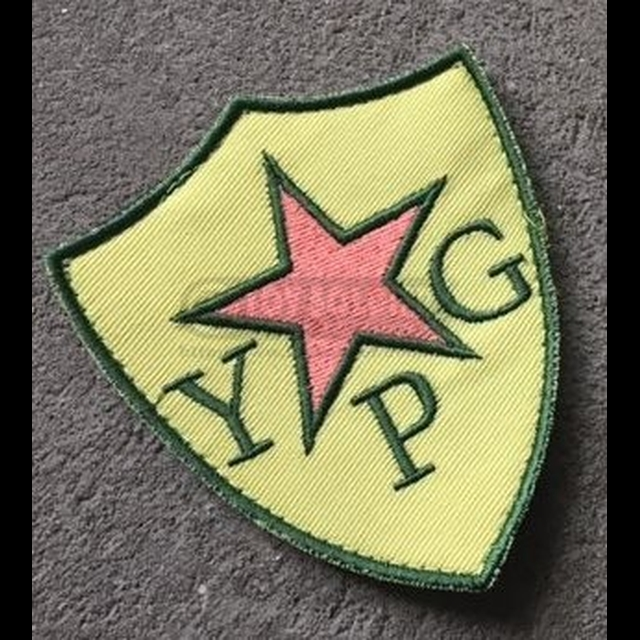YPG: (167, 157, 518, 480)
